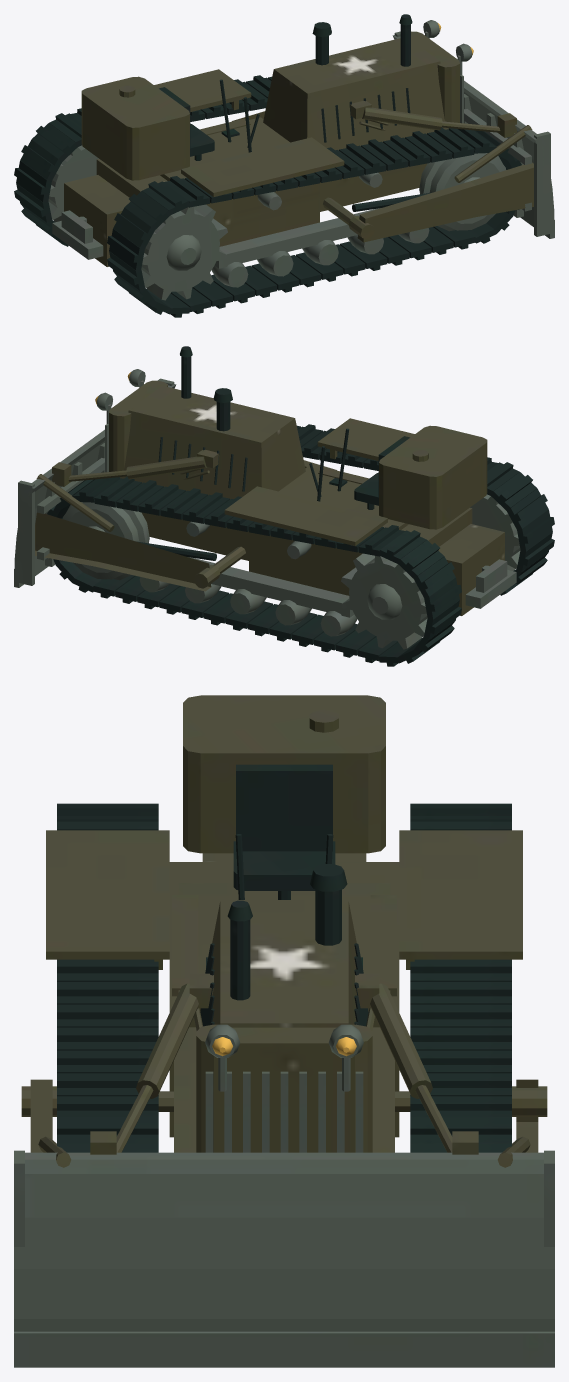
Rendered from caterpillar-d7-3t.glb.
The picture shows the model from 3 angles, top to bottom: view 1: azimuth 30°, elevation 25°; view 2: azimuth 150°, elevation 25°; view 3: azimuth 270°, elevation 25°; orthographic projection. The views are drawn at different scales.
Visible parts, largest first — view 1: Body, Drawbar, BladeRaise, TrackR, BladeTilt, Nose, TrackL; view 2: Body, Drawbar, BladeRaise, TrackL, BladeTilt, Nose, TrackR; view 3: BladeTilt, Body, Drawbar, Nose, BladeRaise.
Boxes of the visible parts, x1,y1,x2,y2 form: Body: [64, 38, 448, 266]; Drawbar: [14, 14, 521, 317]; BladeRaise: [232, 107, 533, 242]; TrackR: [141, 204, 227, 300]; BladeTilt: [392, 31, 554, 238]; Nose: [411, 31, 459, 122]; TrackL: [48, 145, 98, 221]; Body: [120, 385, 504, 615]; Drawbar: [47, 346, 554, 666]; BladeRaise: [35, 456, 336, 591]; TrackL: [341, 553, 427, 649]; BladeTilt: [14, 378, 176, 587]; Nose: [109, 380, 167, 471]; TrackR: [470, 494, 520, 570]; BladeTilt: [14, 1150, 554, 1367]; Body: [46, 695, 522, 1152]; Drawbar: [57, 764, 511, 1152]; Nose: [196, 1024, 372, 1152]; BladeRaise: [21, 983, 547, 1167].
Size of the model in its own units: 4.08 by 1.89 by 2.43.
Materials: 1 (1 with a texture image).
